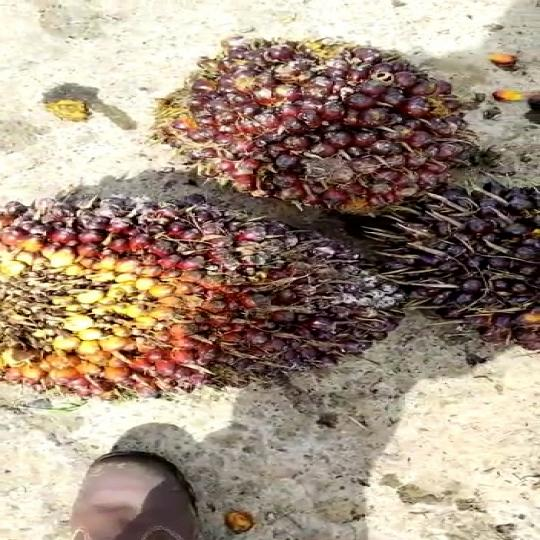kurang masak: (0, 198, 428, 403), (148, 46, 506, 239)
